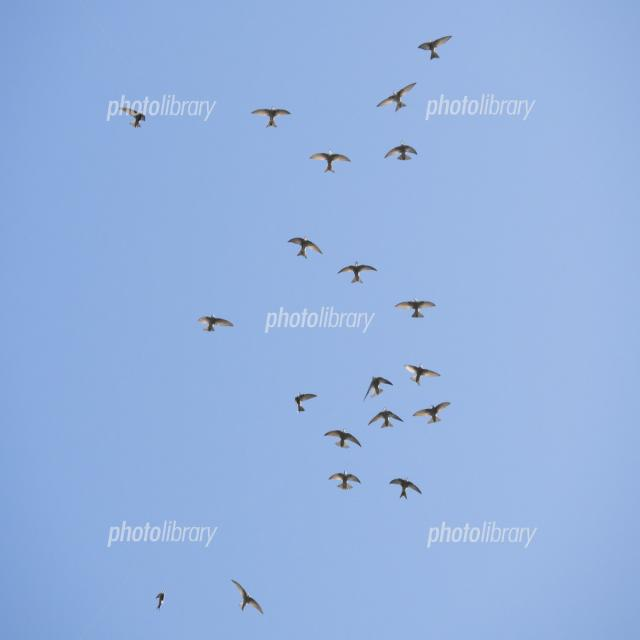bird: (377, 80, 417, 112), (233, 580, 265, 616), (310, 149, 353, 175), (338, 260, 379, 285), (413, 400, 452, 426), (252, 108, 292, 132), (395, 298, 437, 320), (368, 407, 406, 431), (112, 106, 150, 130), (417, 34, 452, 60), (406, 363, 443, 387), (363, 373, 393, 402), (324, 428, 363, 450), (287, 237, 323, 260), (389, 478, 423, 502), (327, 469, 363, 491), (383, 142, 419, 164), (197, 314, 236, 332), (292, 394, 318, 413), (152, 589, 168, 612)
